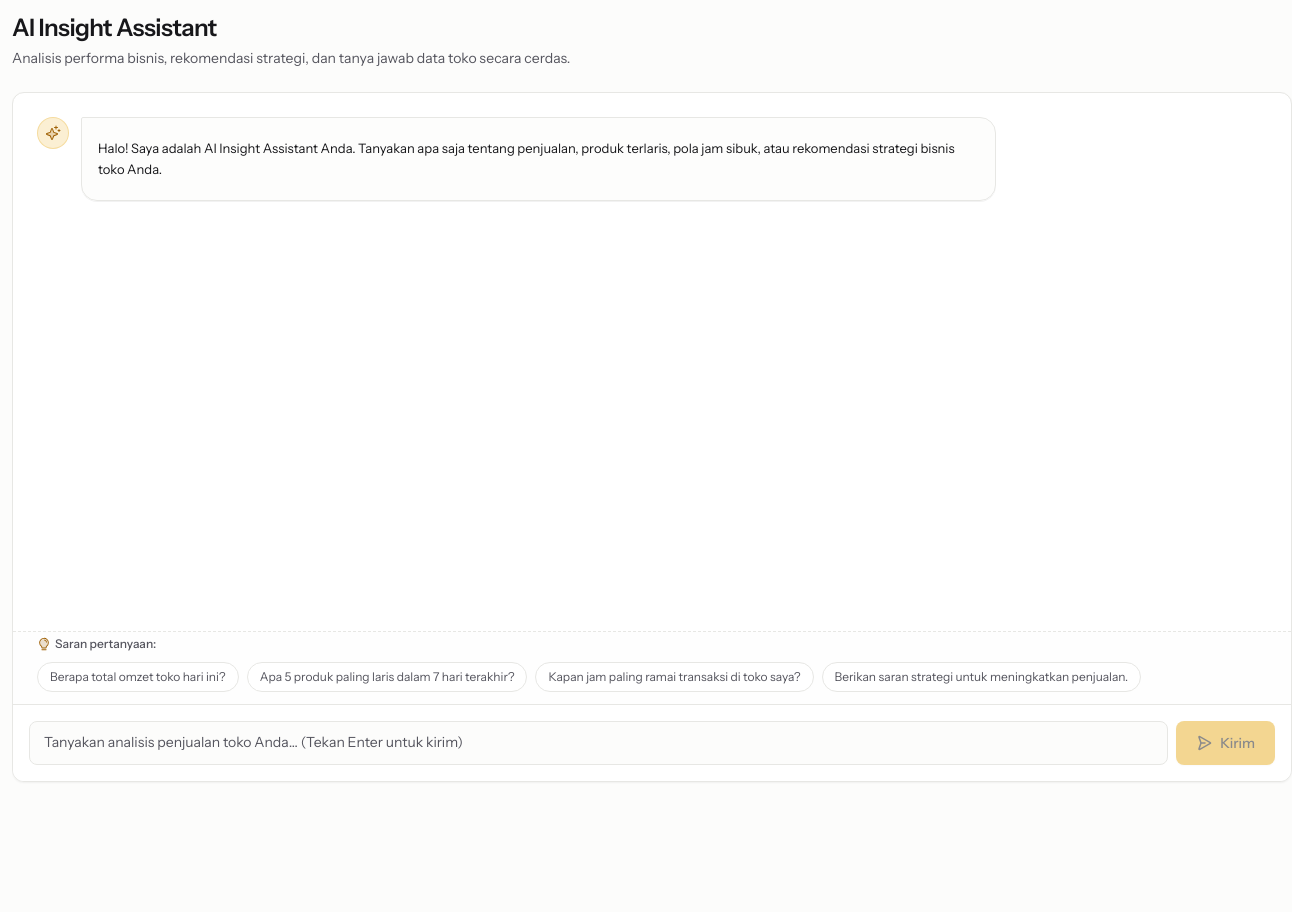
Scenario: AiInsightView › handles backend failure gracefully and renders error banner
Replace the text in the text box with placeholder "Tanyakan analisis penjualan toko Anda" with "Analisa performa toko": [599, 743] box [29,721,1168,765]
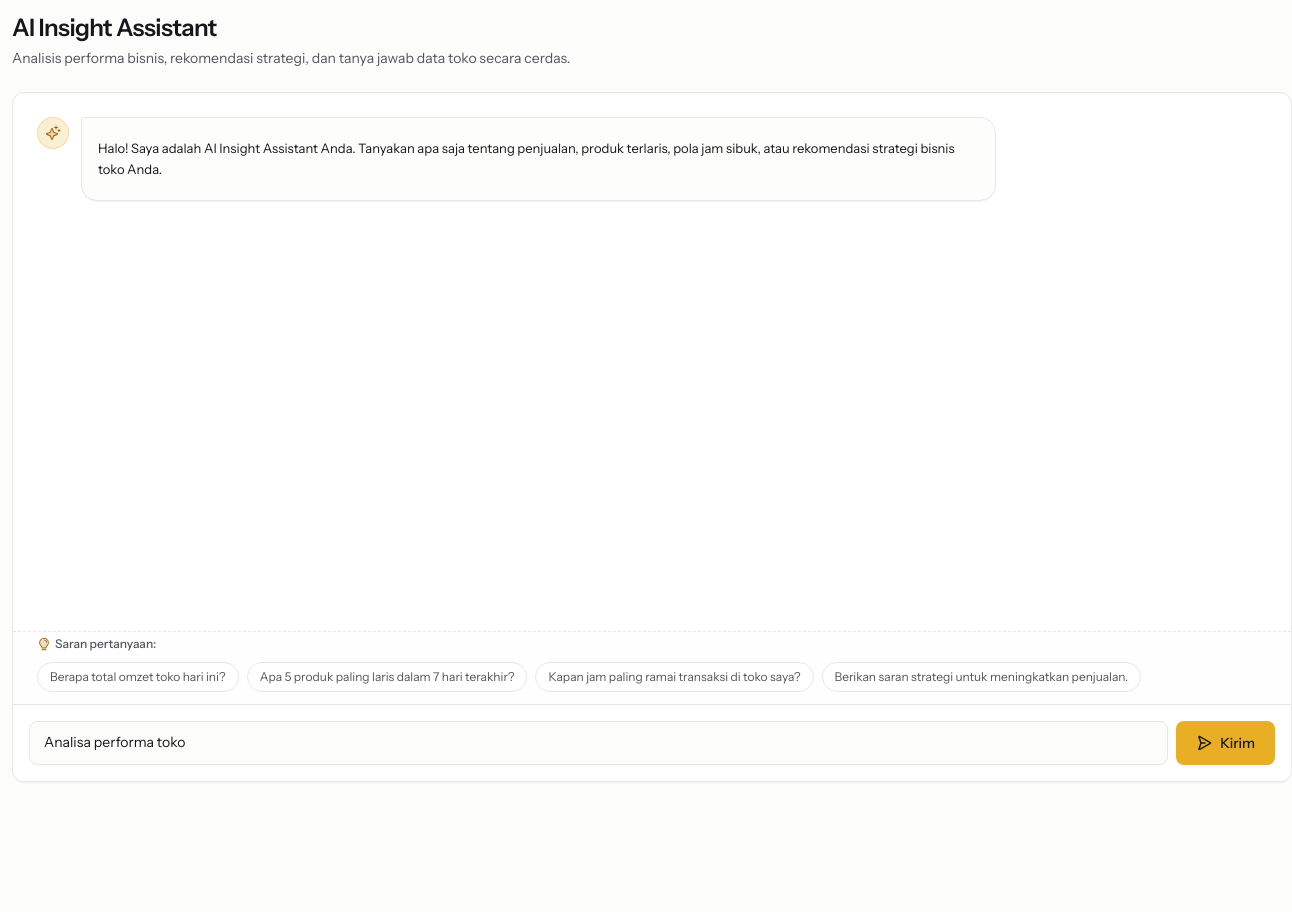
Click the button with aria-label "Kirim pertanyaan": [1226, 743] box [1176,721,1275,765]
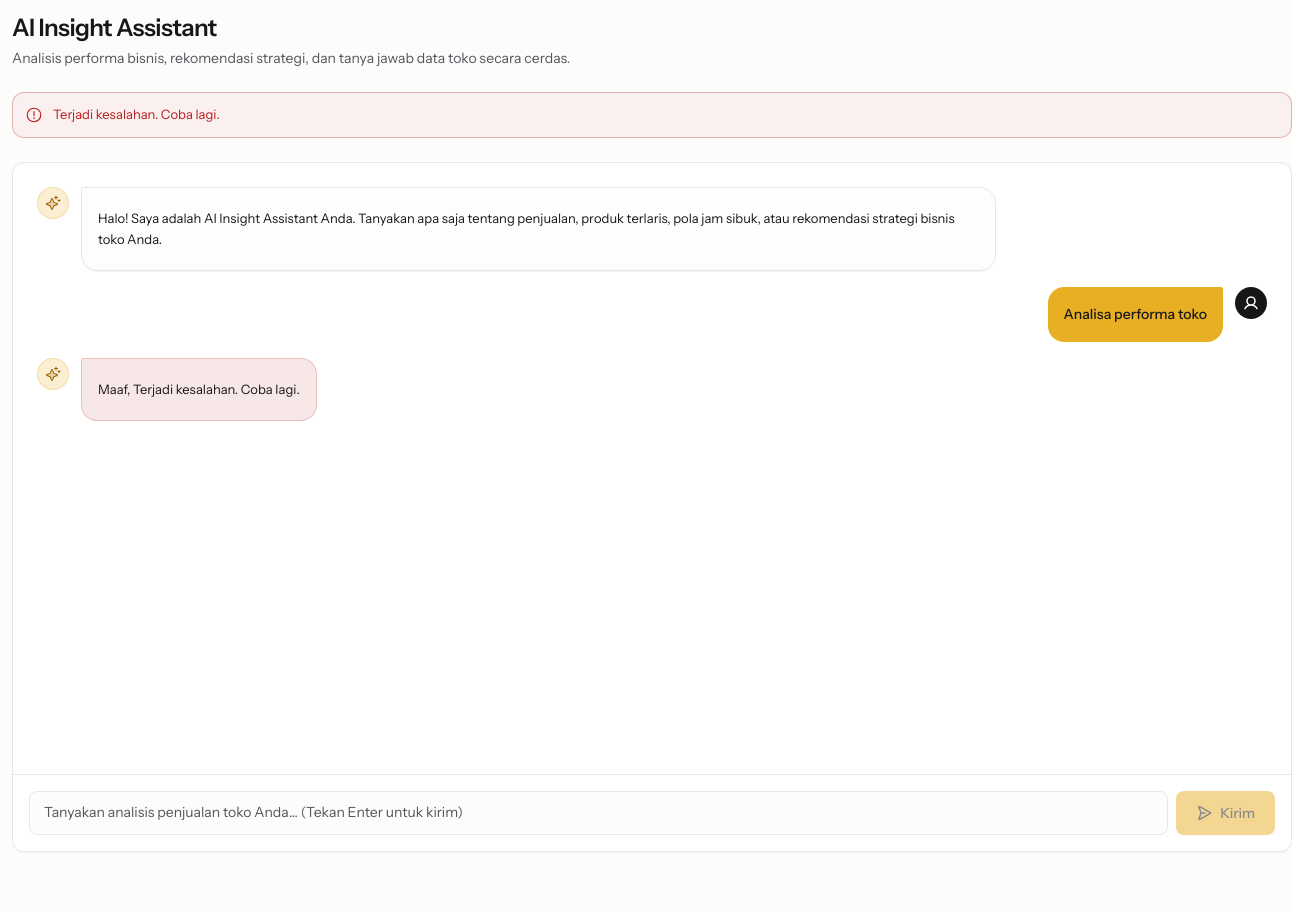
Expected: the text "Maaf, Terjadi kesalahan. Coba lagi." is shown, [98,378,300,400]
Expected: the text "Terjadi kesalahan. Coba lagi." is shown, [53,105,220,124]
